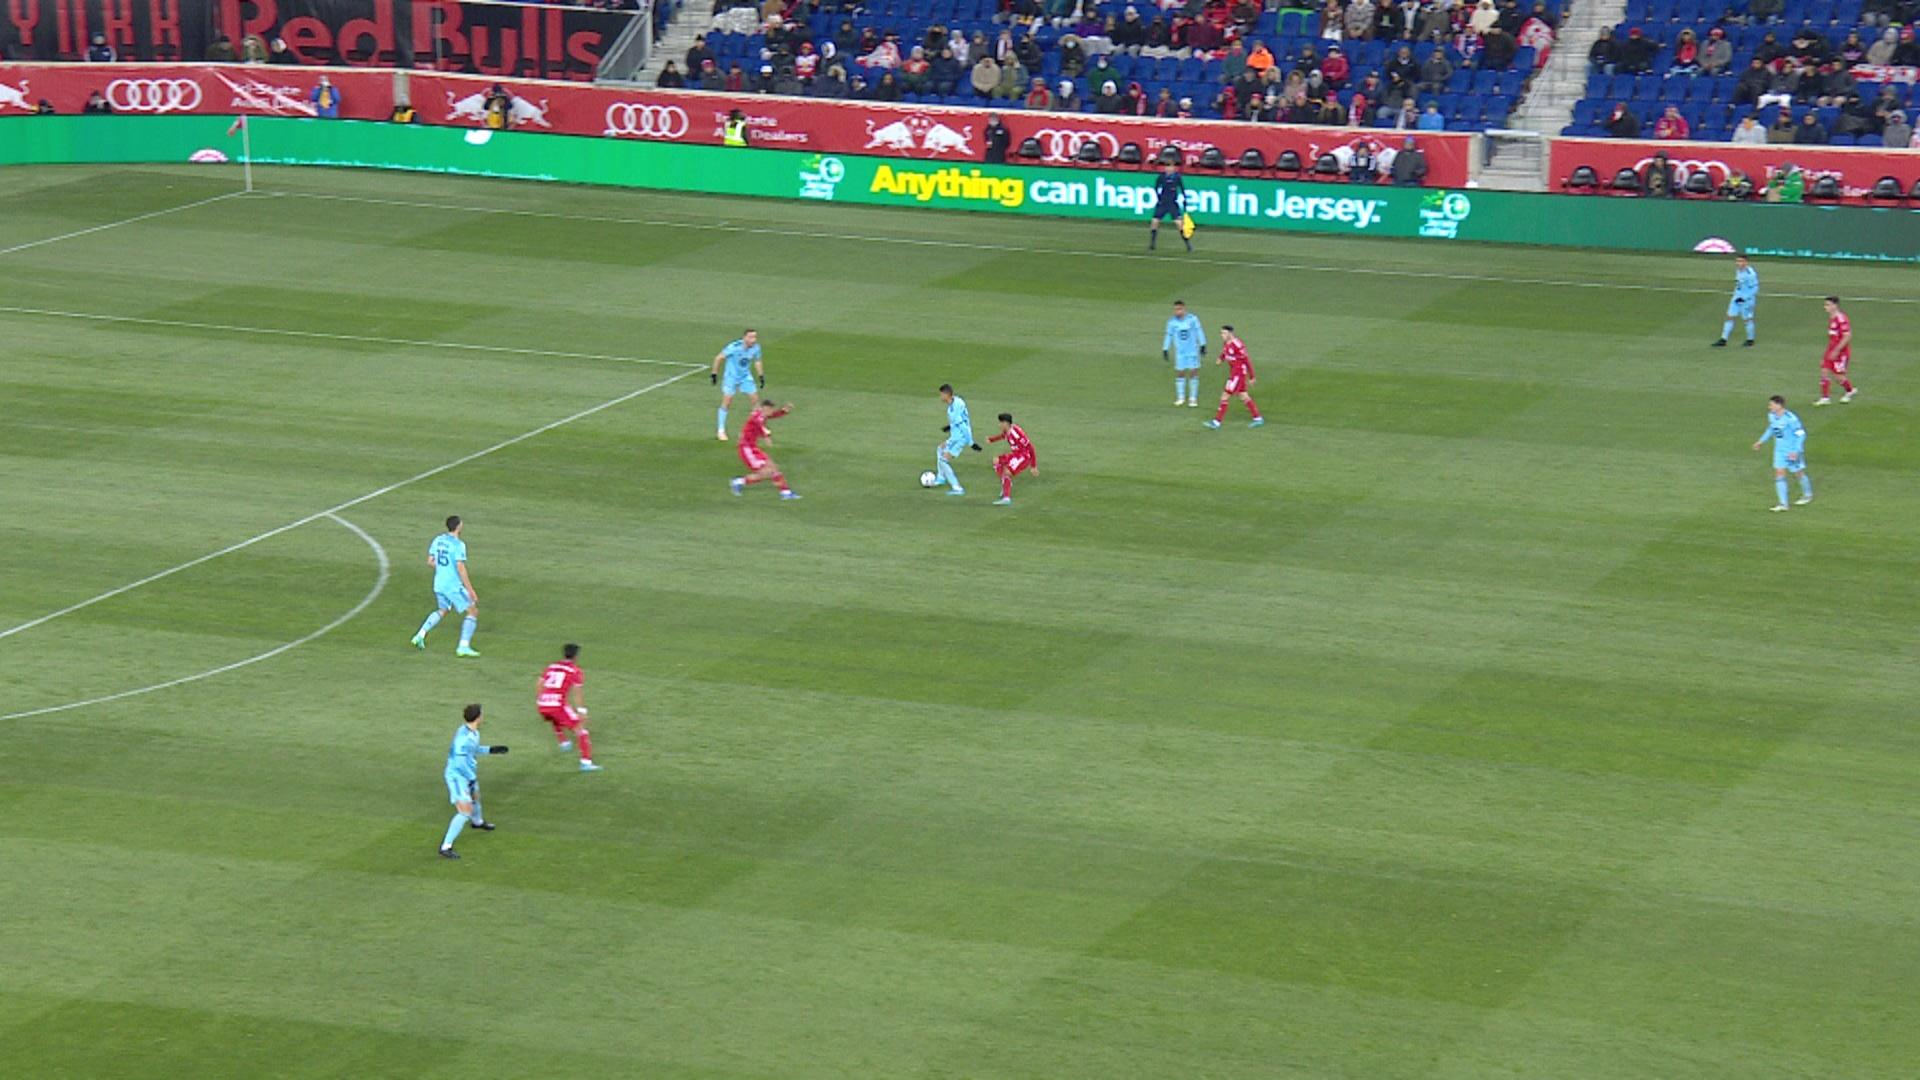football: (919, 468, 935, 488)
